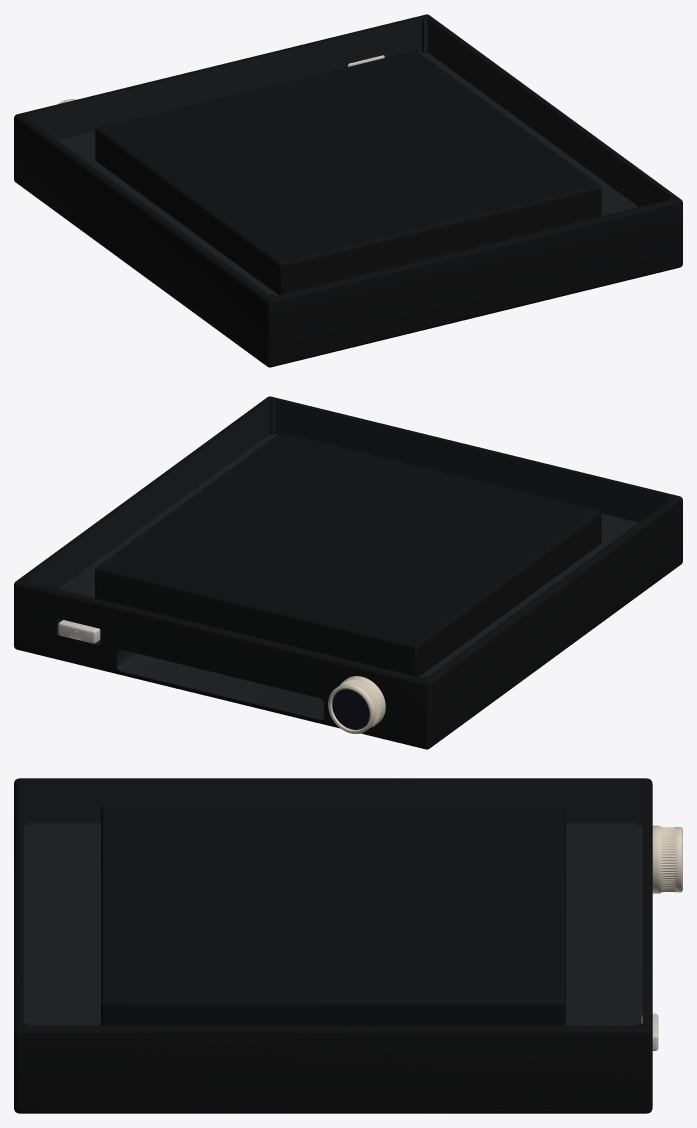
File: device.glb
3 views of the same model, one above another, from view 1: azimuth 30°, elevation 25°; view 2: azimuth 150°, elevation 25°; view 3: azimuth 270°, elevation 25° (orthographic). The views are drawn at different scales.
Parts seen in each view (by area): view 1: Body, Well_Fill; view 2: Well_Fill, Body, ProjectorLens, EjectButton; view 3: Body, Well_Fill, ProjectorLens.
Boxes of the visible parts, x1,y1,x2,y2 form: Body: (14, 14, 682, 367); Well_Fill: (95, 50, 601, 294); Well_Fill: (95, 433, 601, 676); Body: (14, 396, 682, 749); ProjectorLens: (328, 676, 385, 733); EjectButton: (58, 620, 100, 643); Body: (14, 778, 652, 1113); Well_Fill: (101, 806, 565, 1025); ProjectorLens: (652, 825, 682, 893).
Size of what is drawn, in the model's own units: 0.0924 by 0.0145 by 0.1032.
8 materials, 1 textured.
